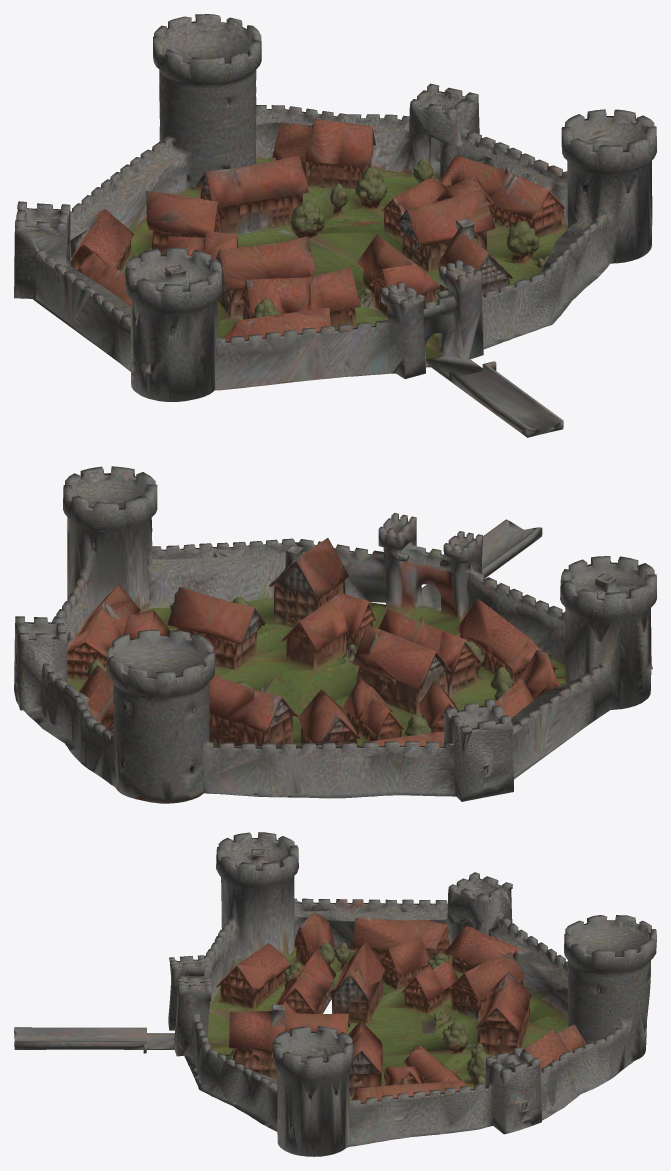
The model's file is m_gotland_animated.glb.
The picture shows the model from 3 angles, top to bottom: view 1: azimuth 30°, elevation 25°; view 2: azimuth 150°, elevation 25°; view 3: azimuth 270°, elevation 25°; orthographic projection. The views are drawn at different scales.
Parts seen in each view (by area): view 1: m_gotland_Living_Scenery; view 2: m_gotland_Living_Scenery; view 3: m_gotland_Living_Scenery.
Part boxes in pixels (box(x1,y1,x2,y2)): m_gotland_Living_Scenery: box(14, 14, 656, 437); m_gotland_Living_Scenery: box(14, 466, 656, 803); m_gotland_Living_Scenery: box(14, 832, 656, 1156).
Size of the model in its own units: 0.8389 by 0.1974 by 0.9998.
Materials: 1 (1 with a texture image).
